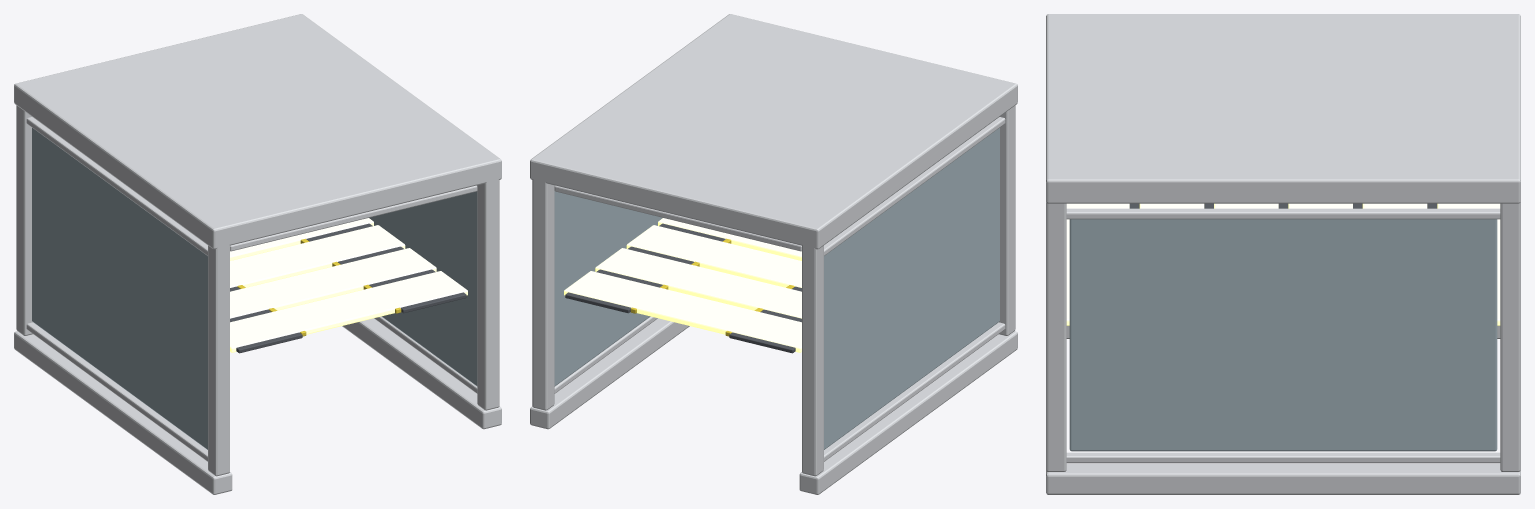
Rendered from btf-paint-booth.glb.
3 views of the same model, side by side, from view 1: azimuth 30°, elevation 25°; view 2: azimuth 150°, elevation 25°; view 3: azimuth 270°, elevation 25° (orthographic). The views are drawn at different scales.
Parts seen in each view (by area): view 1: 119-paint-booth-module/0, 119-paint-booth-module/1, 119-paint-booth-module/2, 119-paint-booth-module/3; view 2: 119-paint-booth-module/0, 119-paint-booth-module/1, 119-paint-booth-module/2, 119-paint-booth-module/3; view 3: 119-paint-booth-module/0, 119-paint-booth-module/1, 119-paint-booth-module/2.
Boxes of the visible parts, bbox=[...] form: 119-paint-booth-module/0: bbox=[14, 14, 501, 494]; 119-paint-booth-module/1: bbox=[32, 128, 477, 449]; 119-paint-booth-module/2: bbox=[230, 218, 467, 352]; 119-paint-booth-module/3: bbox=[230, 223, 466, 353]; 119-paint-booth-module/0: bbox=[530, 14, 1017, 494]; 119-paint-booth-module/1: bbox=[554, 128, 999, 449]; 119-paint-booth-module/2: bbox=[564, 218, 801, 352]; 119-paint-booth-module/3: bbox=[565, 223, 801, 353]; 119-paint-booth-module/0: bbox=[1046, 14, 1520, 494]; 119-paint-booth-module/1: bbox=[1069, 219, 1497, 451]; 119-paint-booth-module/2: bbox=[1066, 203, 1500, 325].
Size of the model in its own units: 163842 by 144180 by 196602.
